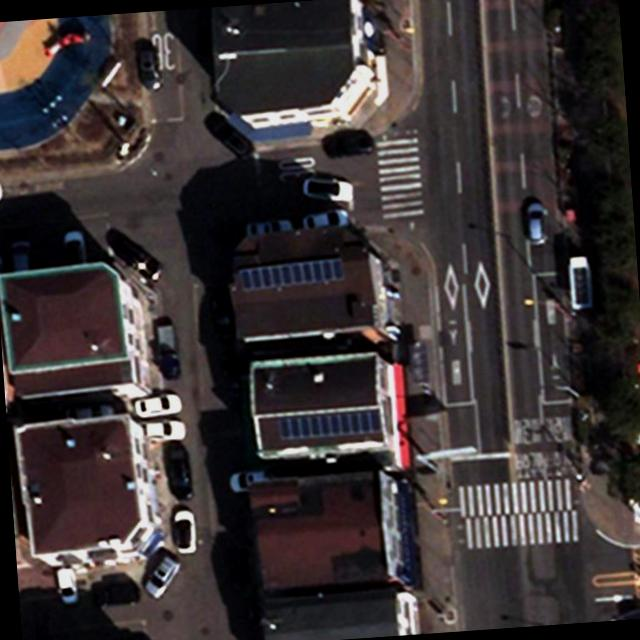solar: (276, 406, 384, 442), (234, 256, 348, 290)
